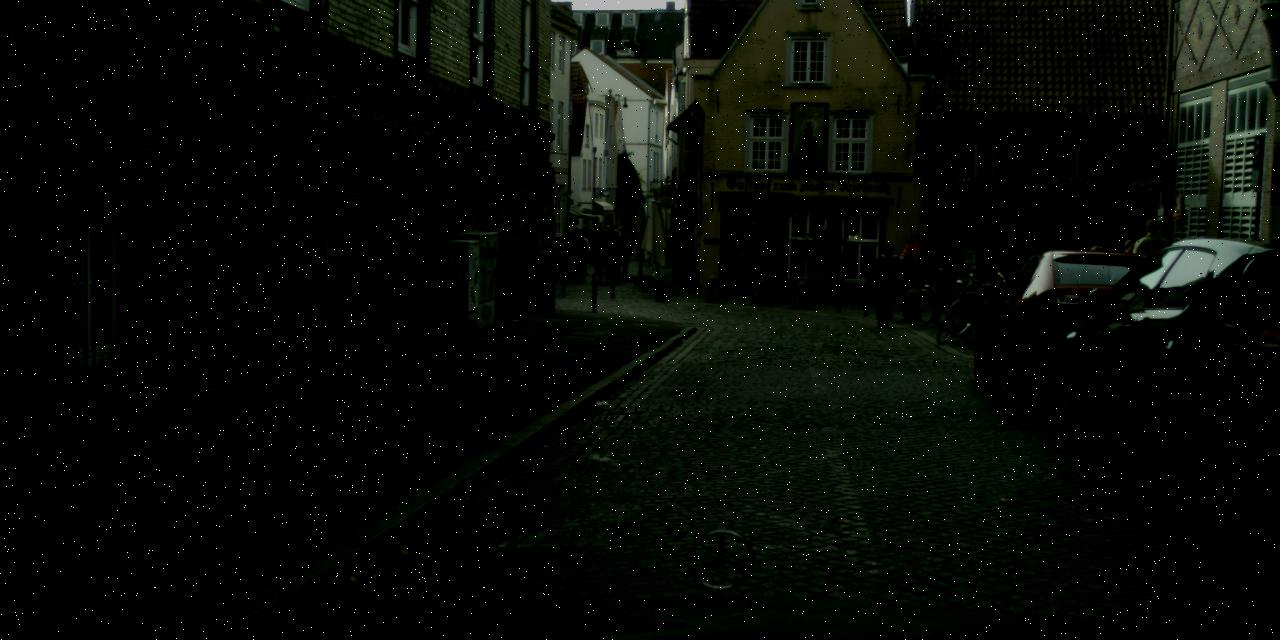ped: (1125, 218, 1179, 350), (1108, 239, 1153, 352), (1073, 244, 1116, 350), (560, 222, 636, 280), (868, 242, 902, 326), (894, 240, 922, 308), (983, 243, 1009, 308), (1006, 240, 1032, 304)
